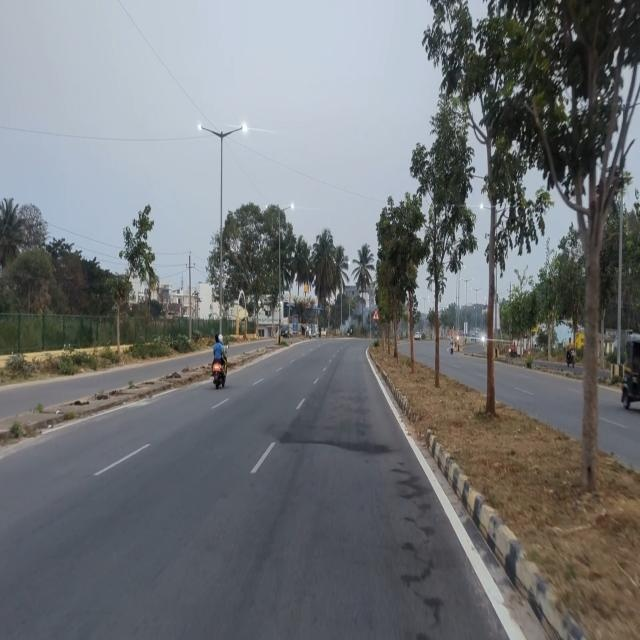bien_nguy_hiem: (372, 308, 381, 321)
